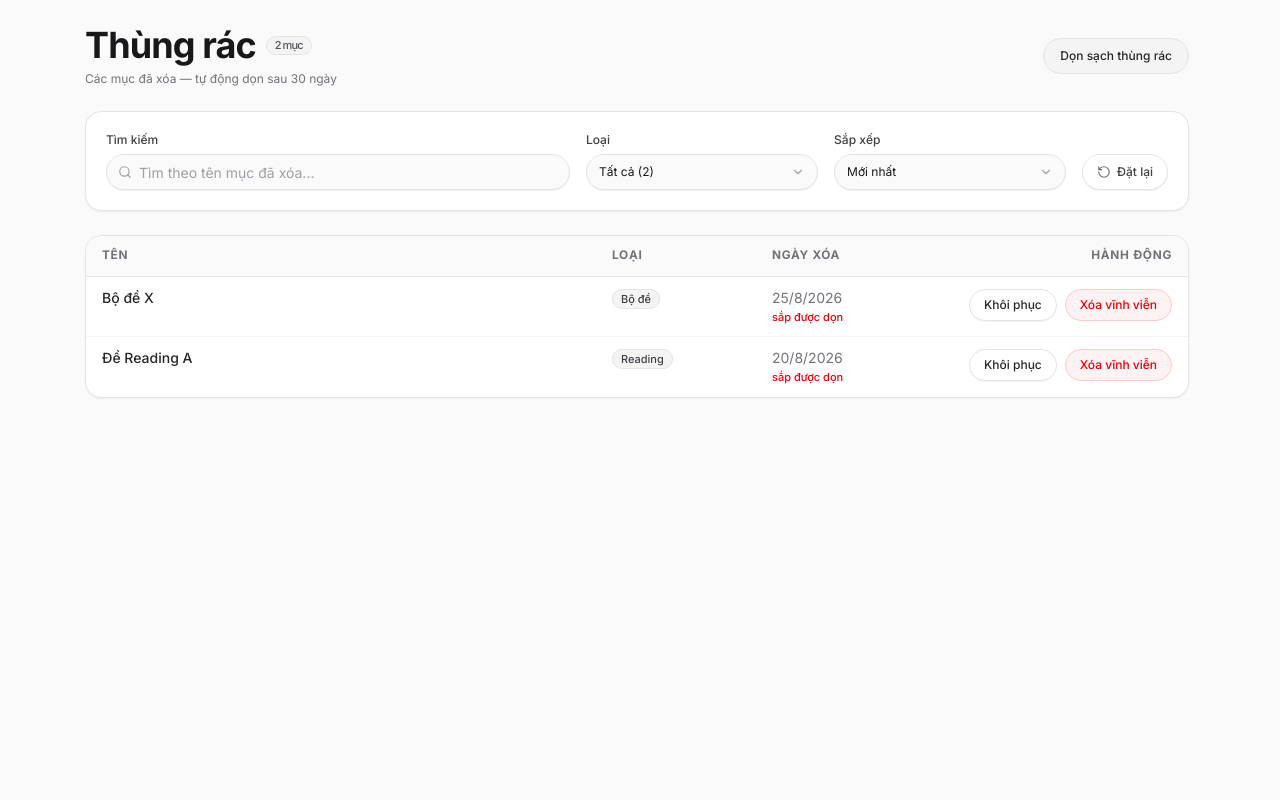
Test: Trash page — P3 modal + a11y + error handling › P0-3: a failed permanent delete keeps the row and shows the backend message
Expected: the text "Bộ đề X" is shown, left=86, top=276, right=596, bottom=337
Note: series row is the 2nd "Xóa vĩnh viễn" button
Click the button "Xóa vĩnh viễn" in the row of "Đề Reading A": (1118, 365) left=1065, top=349, right=1172, bottom=381
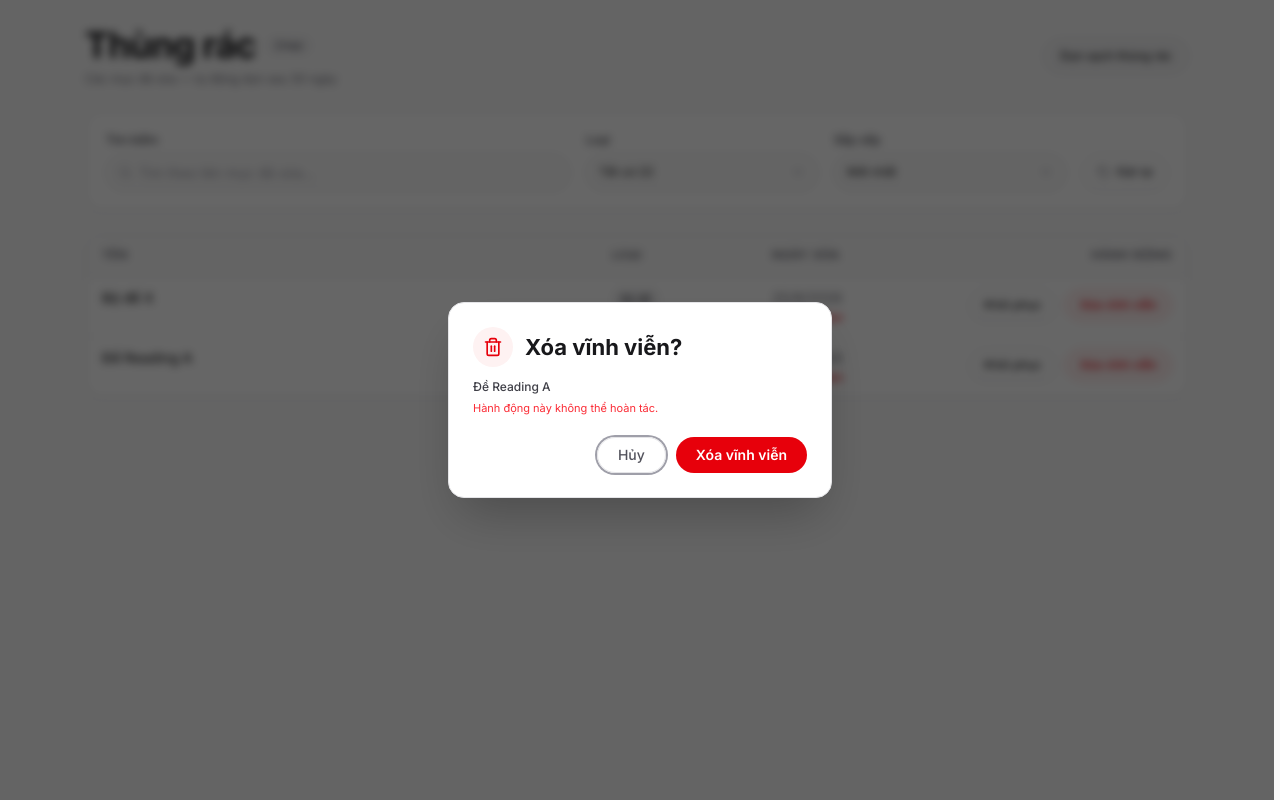
Click the button "Xóa vĩnh viễn": (741, 455) left=676, top=437, right=807, bottom=473
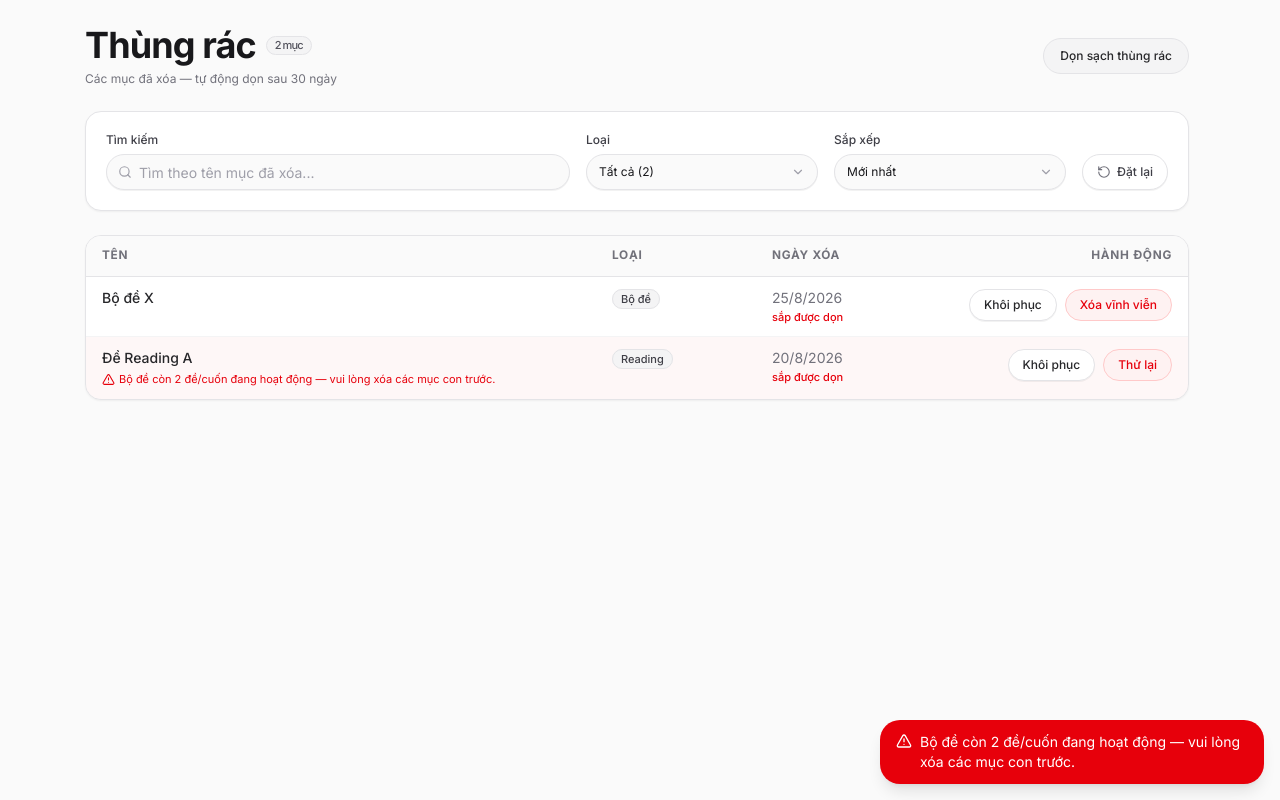
Expected: the text "Bộ đề X" is shown, left=86, top=276, right=596, bottom=337
Expected: the button "Thử lại" is shown, left=1103, top=349, right=1172, bottom=381
Expected: the dialog is gone
